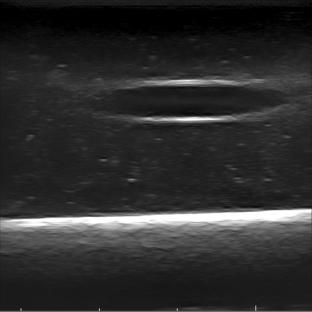vessel: (102, 78, 288, 125)
